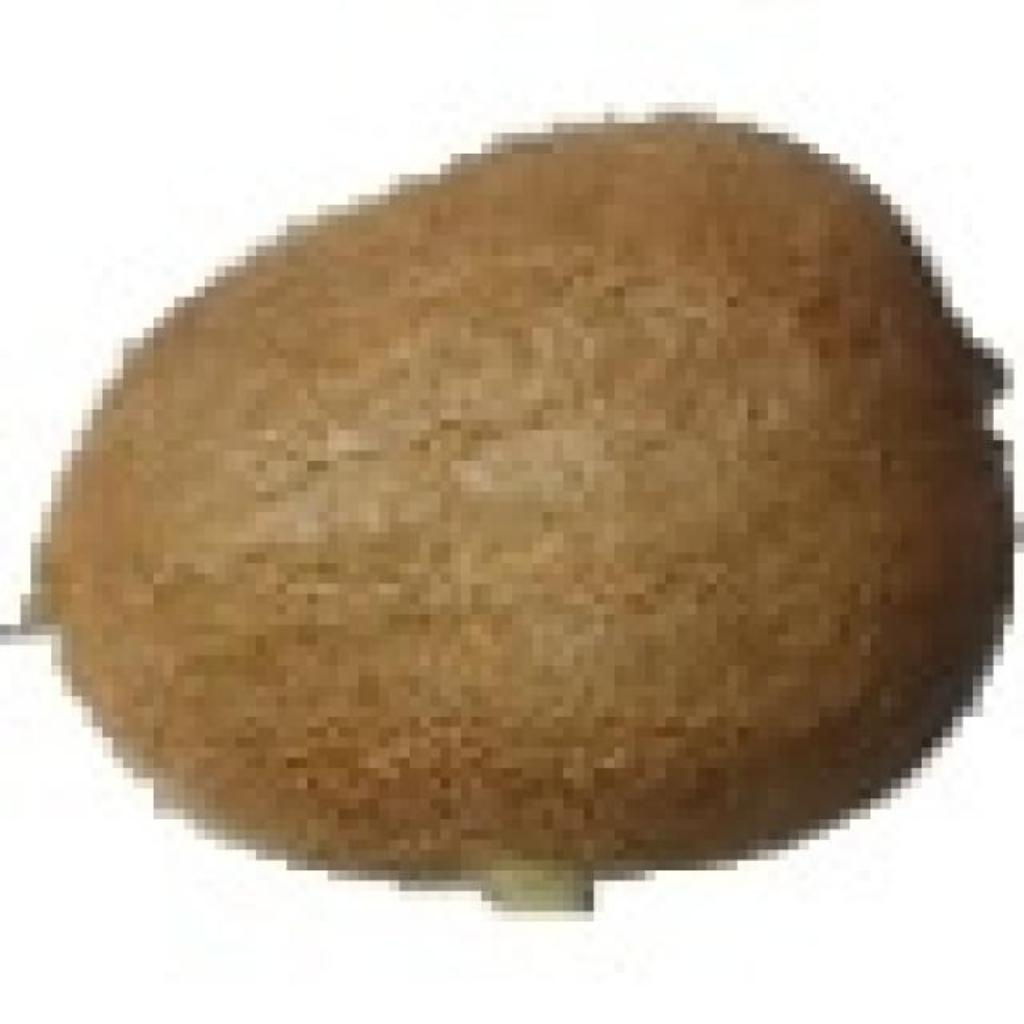kiwi: (31, 102, 993, 881)
